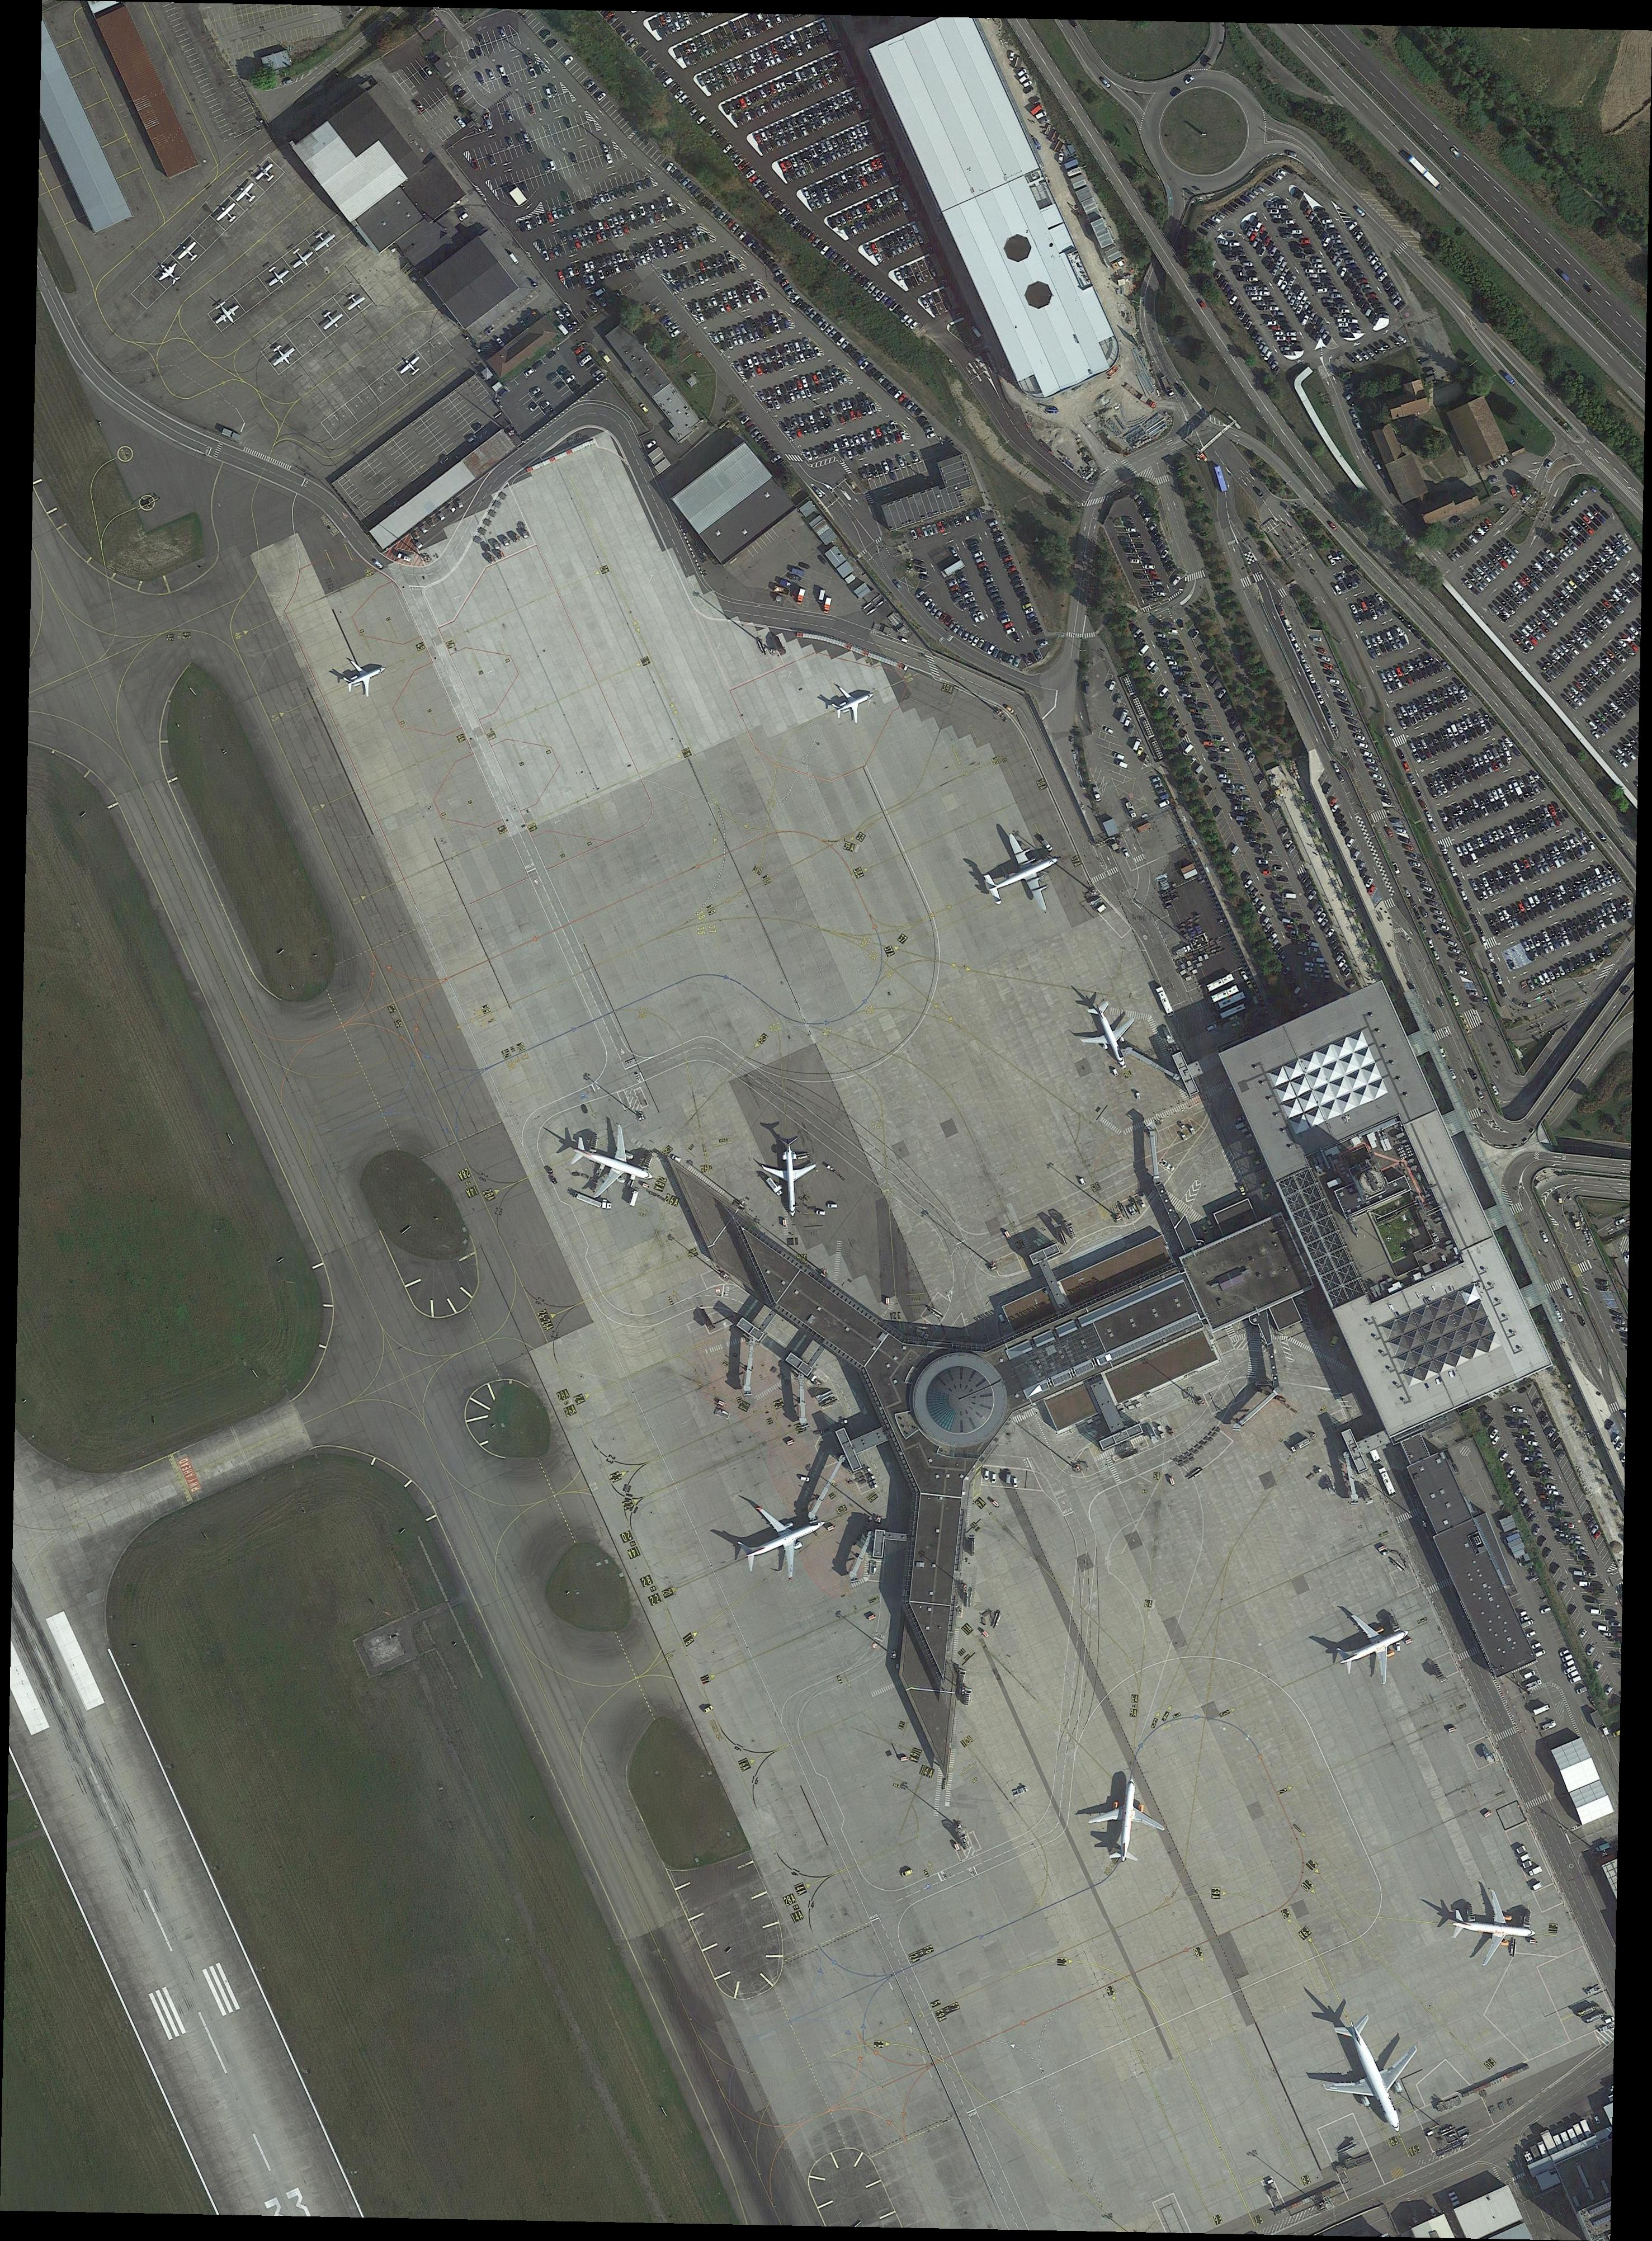plane: (1278, 1980, 1461, 2184), (1301, 1999, 1447, 2151), (701, 1479, 856, 1609), (546, 1101, 687, 1218), (1318, 1589, 1436, 1705), (965, 821, 1078, 933), (1429, 1869, 1542, 1980), (1066, 990, 1155, 1080), (1087, 1773, 1172, 1867), (762, 1136, 828, 1223), (821, 673, 885, 736), (336, 651, 396, 705), (261, 334, 303, 374), (207, 294, 247, 334), (148, 254, 190, 292), (393, 348, 430, 385), (170, 235, 207, 270), (228, 176, 263, 211), (283, 240, 318, 275), (259, 259, 294, 294), (313, 303, 348, 338), (306, 224, 341, 258), (337, 285, 372, 318), (249, 157, 283, 190), (210, 197, 245, 228)
